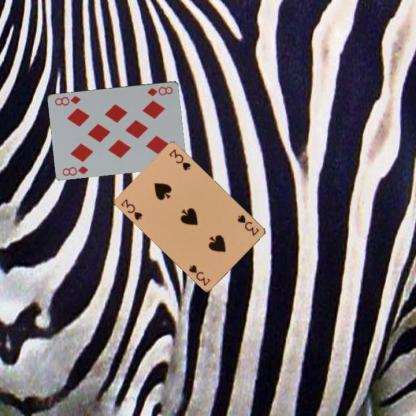3s: (235, 212, 261, 237), (118, 196, 144, 221)
8d: (60, 163, 90, 177), (144, 84, 174, 97)
